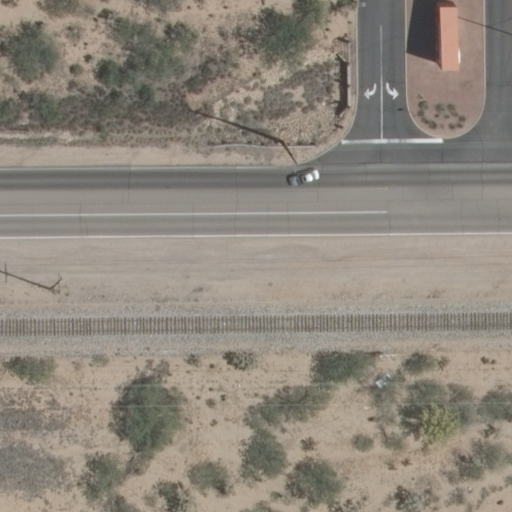DT: (50, 274, 63, 296)
